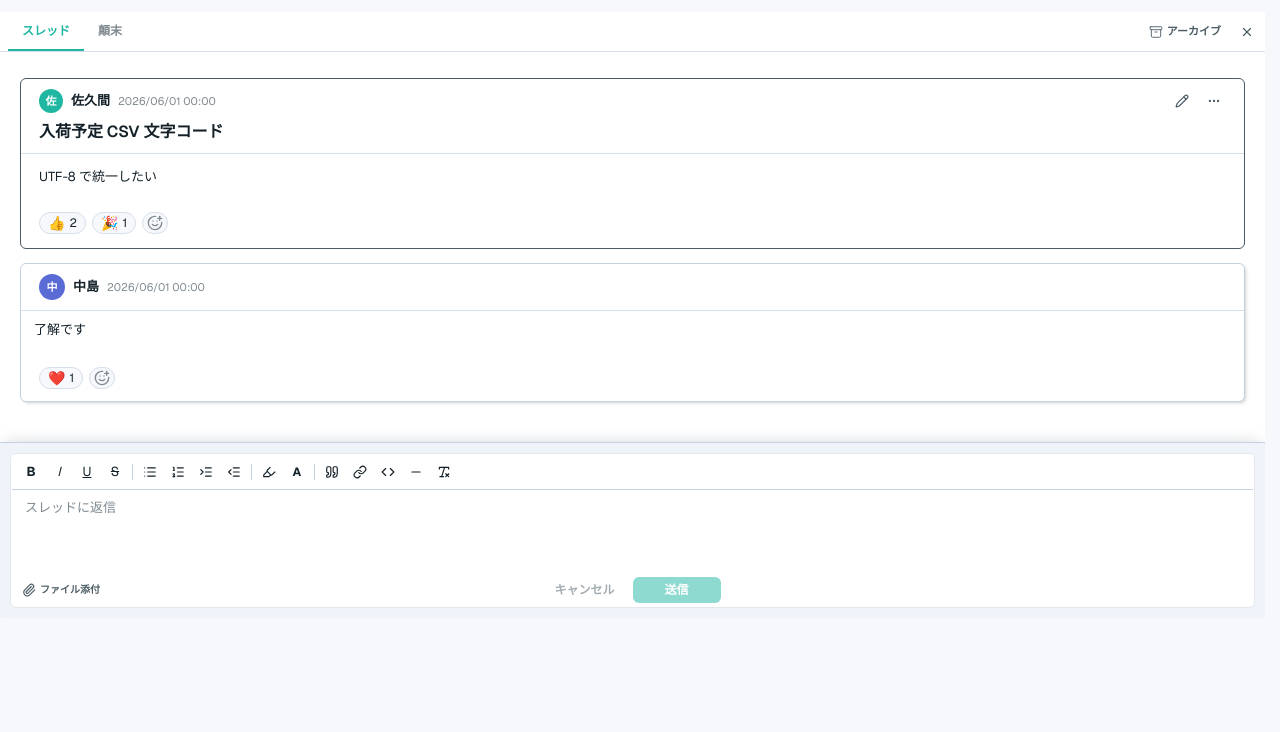
Test case: ChatThread — アーカイブ（rete-desk-0058/0077） › アーカイブ失敗時は閉じず alert を表示する（rete-desk-0103）
Click the button "アーカイブ" at (1185, 32), box [1141,20,1229,44]
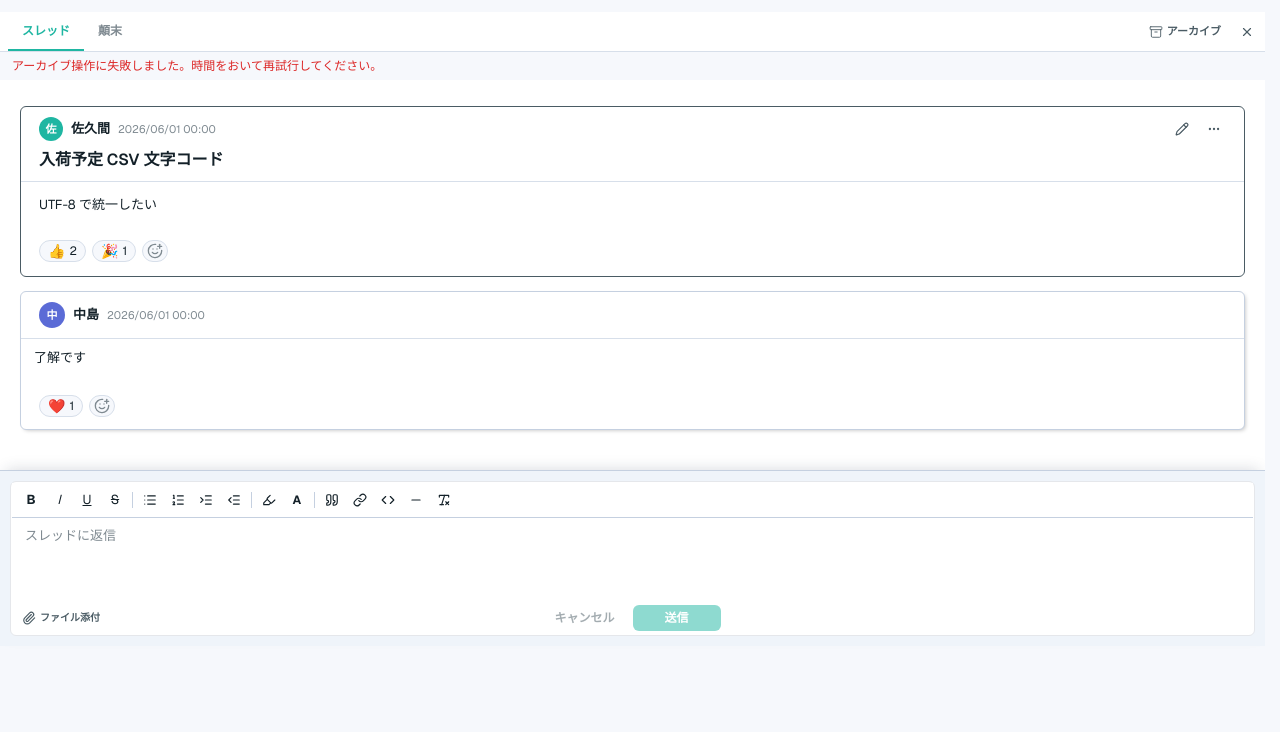
Check: the message shows "アーカイブ操作に失敗しました", box [12,58,382,74]
